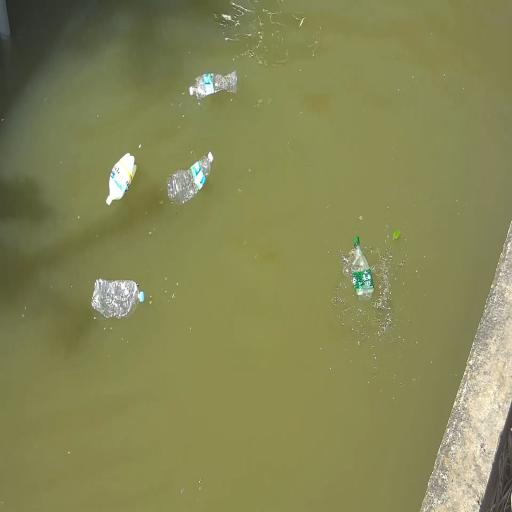plastic: (167, 153, 213, 204), (91, 278, 145, 318), (106, 153, 136, 205), (351, 237, 374, 298), (190, 71, 237, 100)
